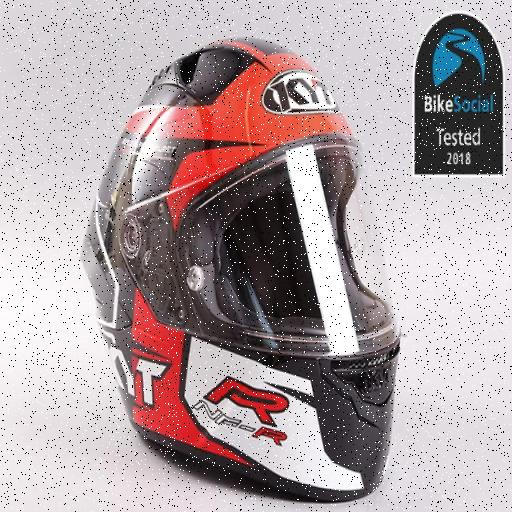Helmet: (82, 40, 399, 500)
